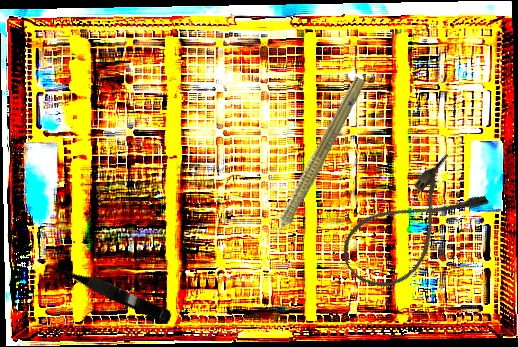Cannula: (331, 150, 493, 303)
Handpiece: (257, 72, 369, 255)
Micro Scissor: (40, 252, 175, 326)
